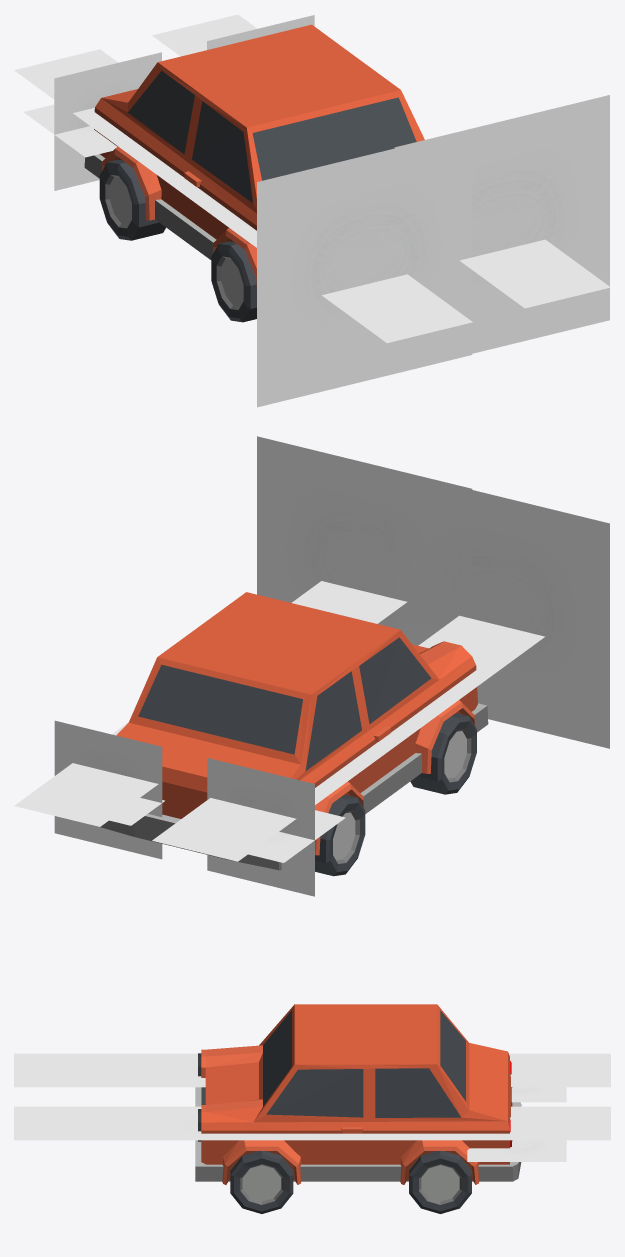
Rendered from MiniSedan.fbx.
3 renders of one model, top to bottom at view 1: azimuth 30°, elevation 25°; view 2: azimuth 150°, elevation 25°; view 3: azimuth 270°, elevation 25°, orthographic. The views are drawn at different scales.
Visible parts, largest first — view 1: StopLightBillboard (×7), BodyMesh, Wheel (×2); view 2: StopLightBillboard (×8), BodyMesh, Wheel (×2); view 3: BodyMesh, StopLightBillboard (×4), Wheel (×2).
Boxes of the visible parts, box(x1,y1,x2,y2) form: StopLightBillboard (×7): box(14, 14, 610, 407); BodyMesh: box(84, 24, 424, 287); Wheel (×2): box(99, 159, 256, 322); StopLightBillboard (×8): box(14, 436, 610, 896); BodyMesh: box(100, 592, 488, 870); Wheel (×2): box(315, 713, 476, 876); BodyMesh: box(195, 1004, 521, 1184); StopLightBillboard (×4): box(14, 1053, 610, 1161); Wheel (×2): box(230, 1151, 471, 1213).
Bounding box in the file's own units: 1.64 × 1 × 3.
3 materials, 3 textured.
